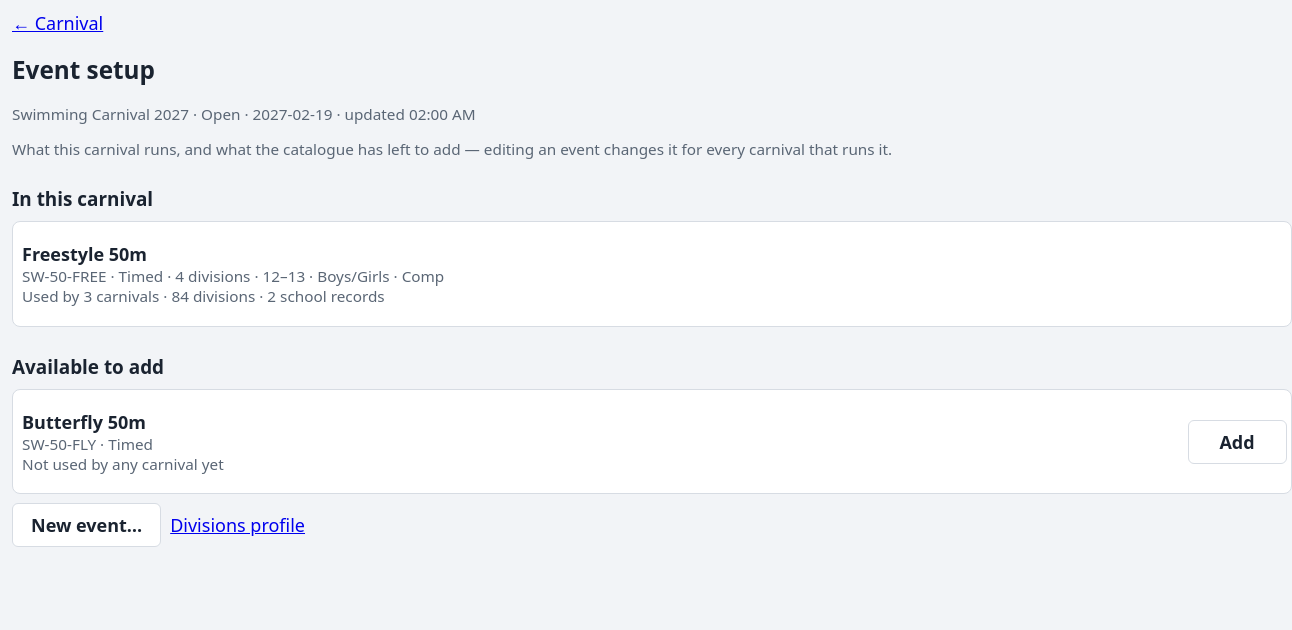
Test: EventSetupScreen — Available to add (ADR-0059) › says nothing was ADDED when the ages could not be saved
The width and height of the screenshot is (1292, 630).
Click the button with aria-label "Add Butterfly 50m".
click(1237, 442)  # box [1188,420,1286,464]
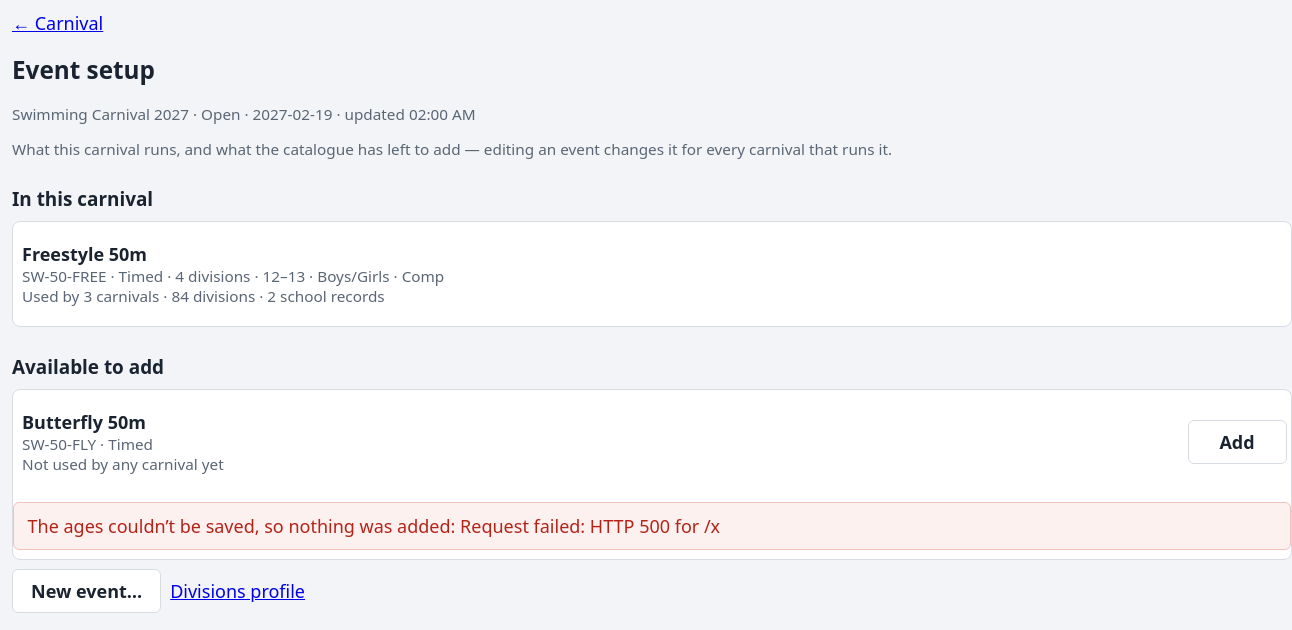
expect the message shows "The ages couldn’t be saved, so nothing was added": met, box [28,514,720,538]
